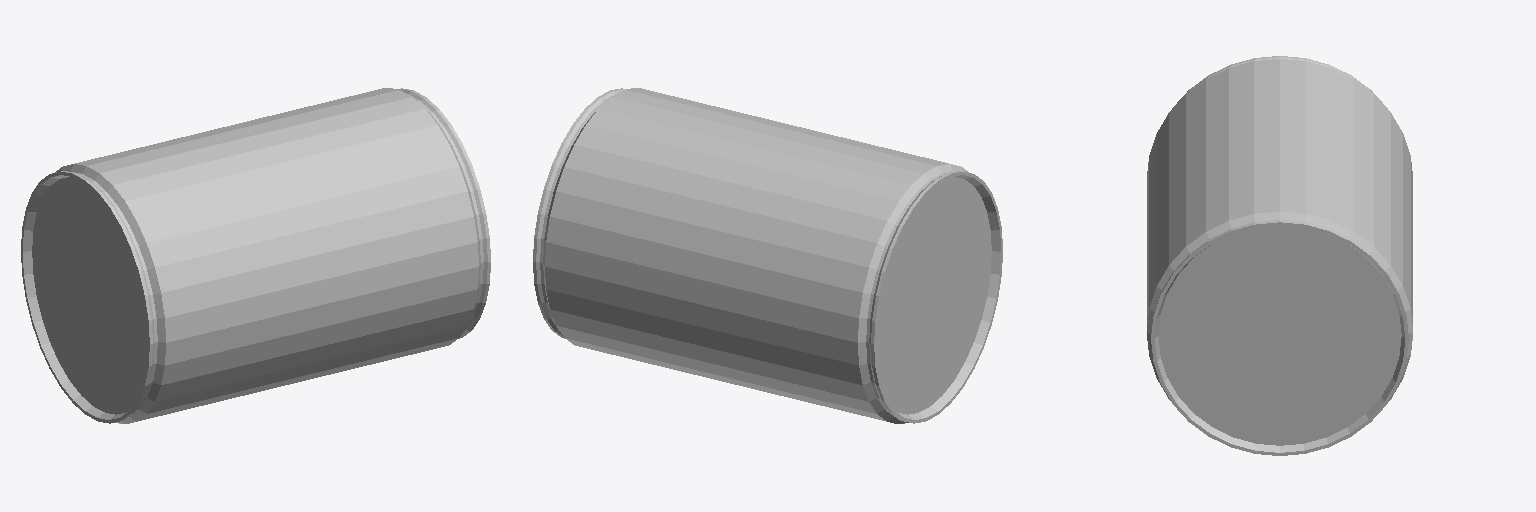
The model's file is Can.obj.
3 renders of one model, left to right at view 1: azimuth 30°, elevation 25°; view 2: azimuth 150°, elevation 25°; view 3: azimuth 270°, elevation 25°, orthographic.
Parts seen in each view (by area): view 1: Cylinder_Cylinder.002; view 2: Cylinder_Cylinder.002; view 3: Cylinder_Cylinder.002.
Boxes of the visible parts, box(x1,y1,x2,y2) form: Cylinder_Cylinder.002: box(21, 88, 490, 423); Cylinder_Cylinder.002: box(533, 88, 1002, 423); Cylinder_Cylinder.002: box(1147, 56, 1412, 455).
Size of the model in its own units: 0.3275 by 0.2217 by 0.2217.